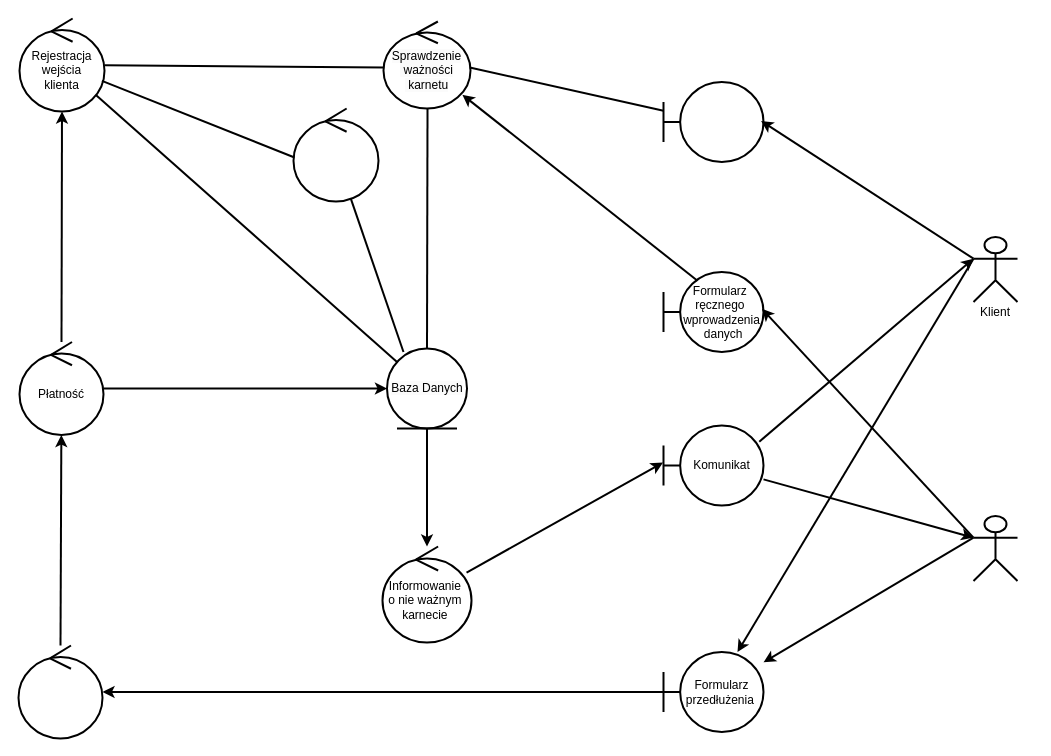
This 1051x756 diagram has some shape labels left out. Here are the shapes that lost their labels. From the top down, the box of each, then its label:
(662, 80, 764, 162): Wejście na siłownie
(292, 107, 379, 202): Algorytm naliczania punktów
(972, 514, 1018, 582): Recepcjonista
(17, 644, 103, 739): Przedłużenie karnetu
